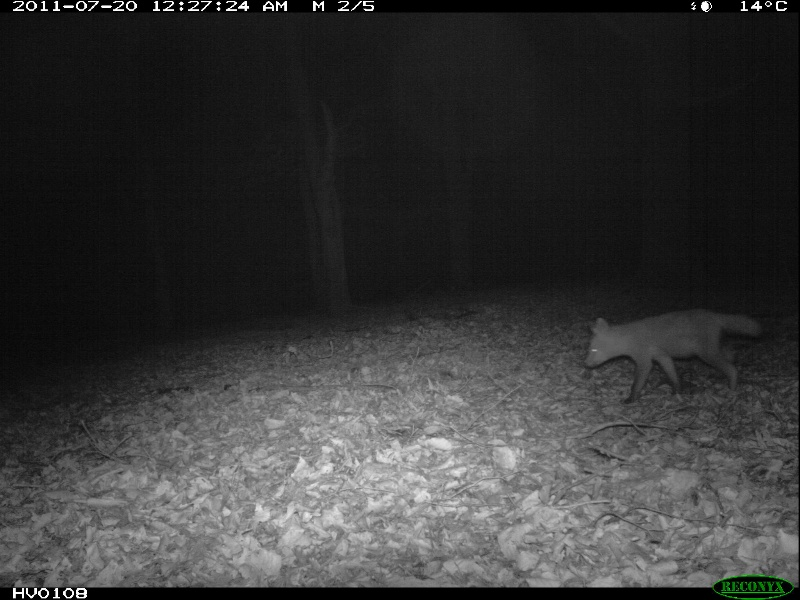fox: (582, 303, 763, 412)
